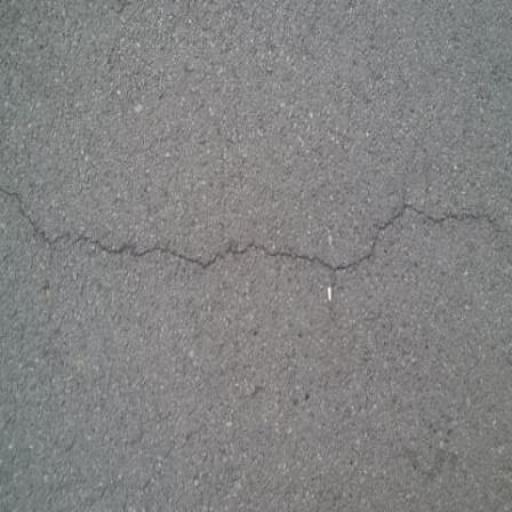spalling: (0, 172, 509, 283)
